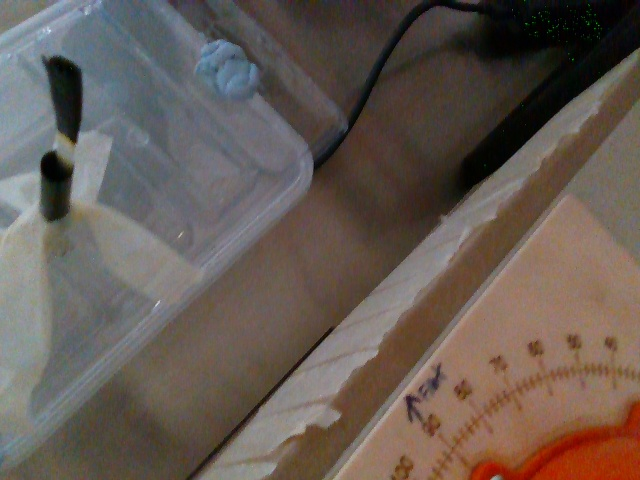test_strip: (40, 52, 82, 164)
